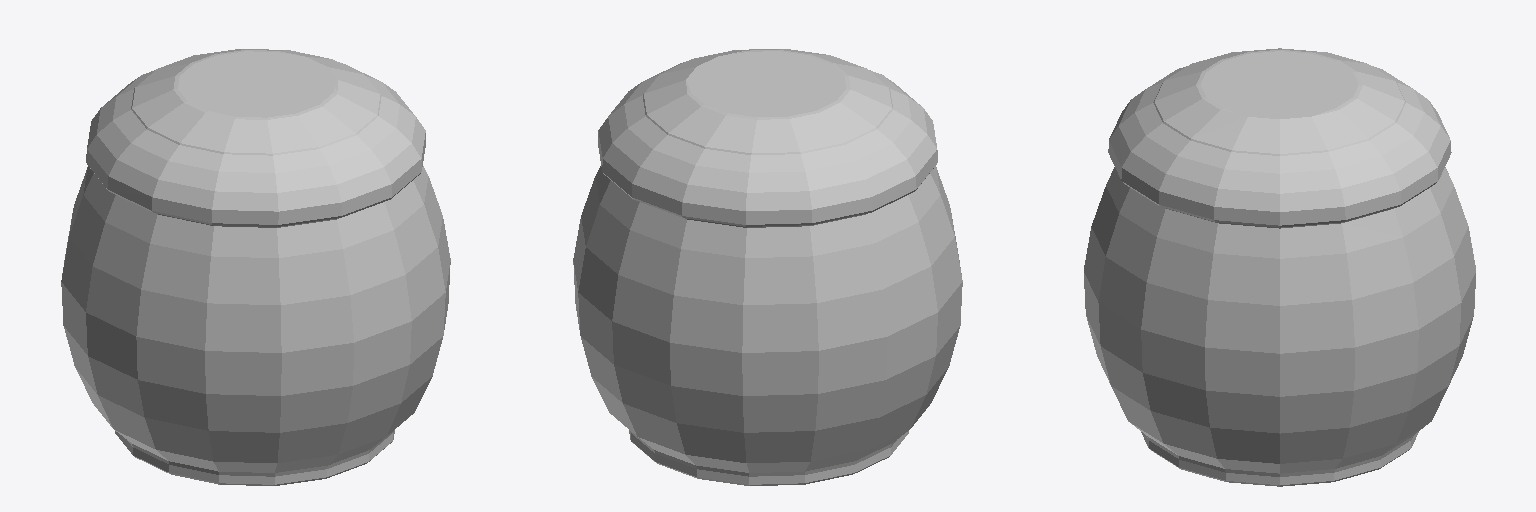
Rendered from SetA_Container_Style_09.obj.
The picture shows the model from 3 angles: view 1: azimuth 30°, elevation 25°; view 2: azimuth 150°, elevation 25°; view 3: azimuth 270°, elevation 25°; orthographic projection.
Parts seen in each view (by area): view 1: SetA_Container_Style_09; view 2: SetA_Container_Style_09; view 3: SetA_Container_Style_09.
Part boxes in pixels (x1,y1,x2,y2): SetA_Container_Style_09: (61, 49, 450, 485); SetA_Container_Style_09: (573, 49, 962, 485); SetA_Container_Style_09: (1084, 48, 1475, 486).
Bounding box in the file's own units: 0.2197 × 0.2117 × 0.2197.